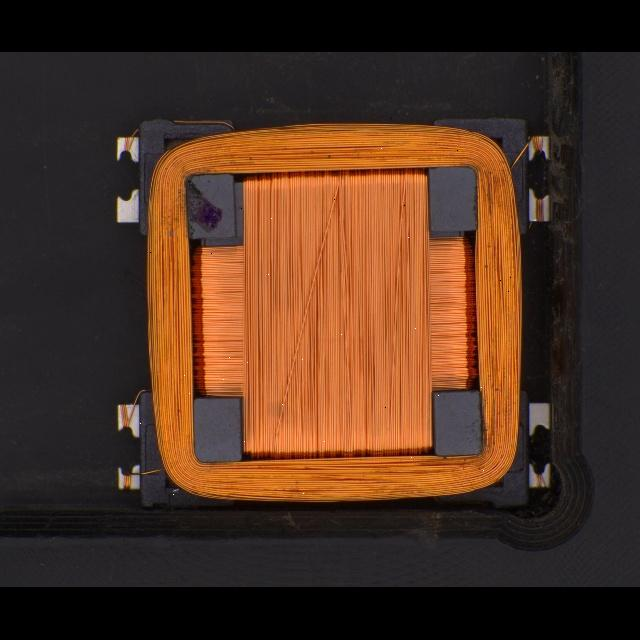Winding_Z: (130, 117, 528, 506)
